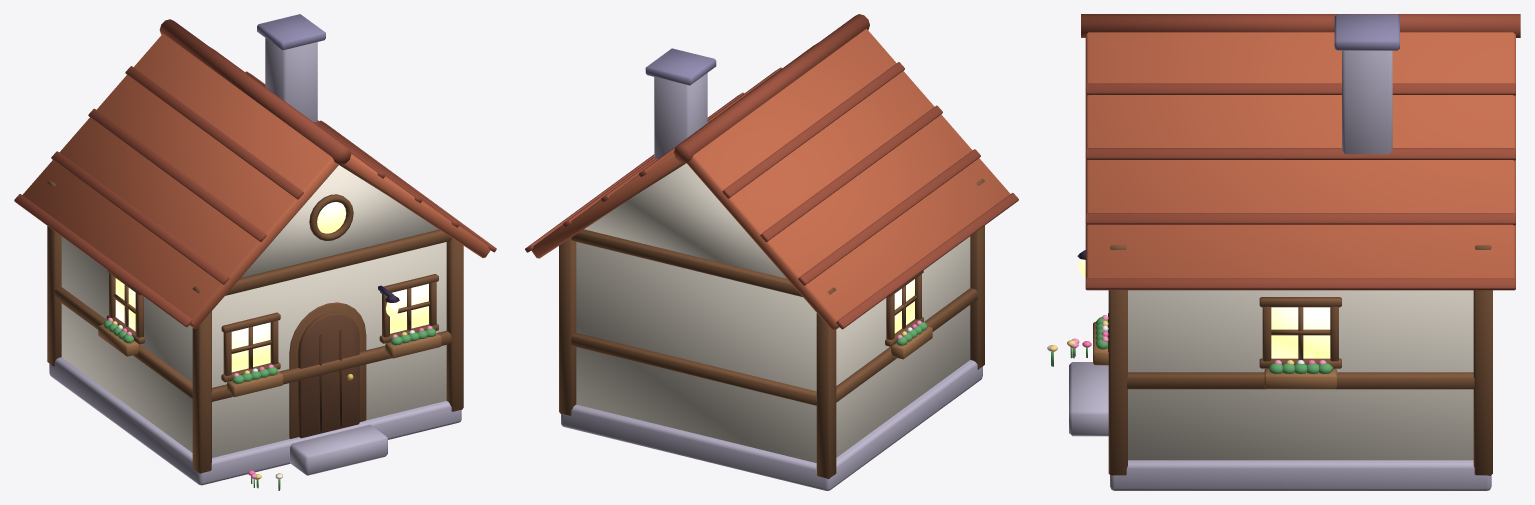
The model's file is house.glb.
3 renders of one model, left to right at view 1: azimuth 30°, elevation 25°; view 2: azimuth 150°, elevation 25°; view 3: azimuth 270°, elevation 25°, orthographic. The views are drawn at different scales.
Parts seen in each view (by area): view 1: house:mesh; view 2: house:mesh; view 3: house:mesh.
Part boxes in pixels (x1,y1,x2,y2): house:mesh: (14, 14, 496, 490); house:mesh: (525, 14, 1018, 490); house:mesh: (1047, 14, 1520, 490).
Bounding box in the file's own units: 3.75 × 3.87 × 3.92.
